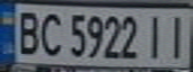2: (118, 11, 142, 61), (103, 11, 124, 61)
5: (63, 10, 87, 58)
9: (84, 11, 106, 60)
B: (9, 7, 42, 56)
C: (36, 9, 66, 57)
I: (163, 11, 193, 60), (142, 11, 169, 61)
